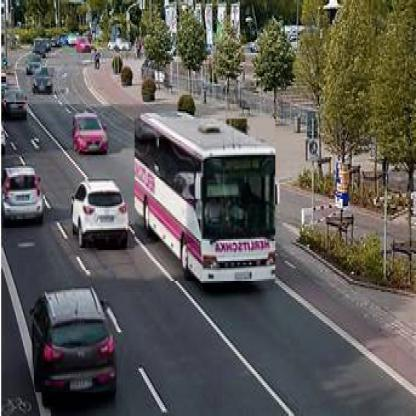bus: (135, 120, 277, 284)
car: (34, 271, 117, 395), (73, 180, 129, 251), (2, 169, 46, 231), (73, 114, 112, 153), (6, 87, 28, 123), (35, 68, 56, 96), (110, 36, 131, 52), (28, 54, 42, 76), (76, 38, 92, 56), (35, 41, 49, 58), (68, 34, 77, 45)
